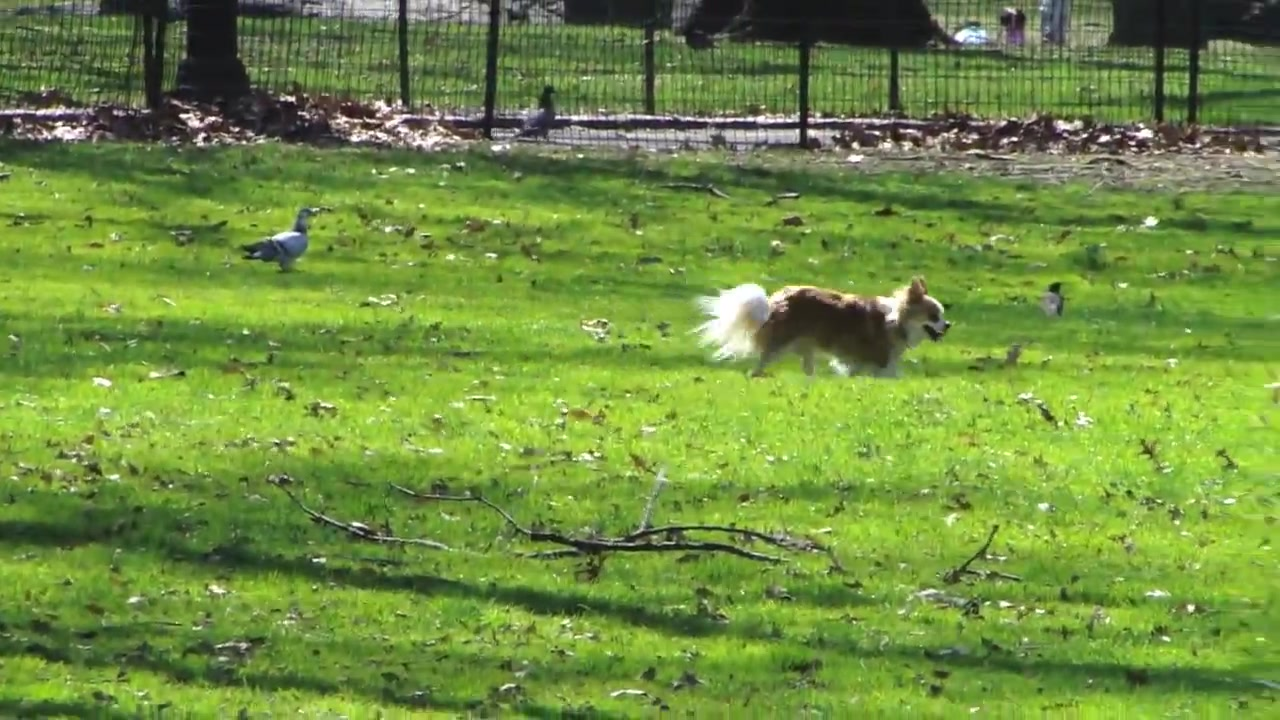dog: (701, 280, 953, 386)
